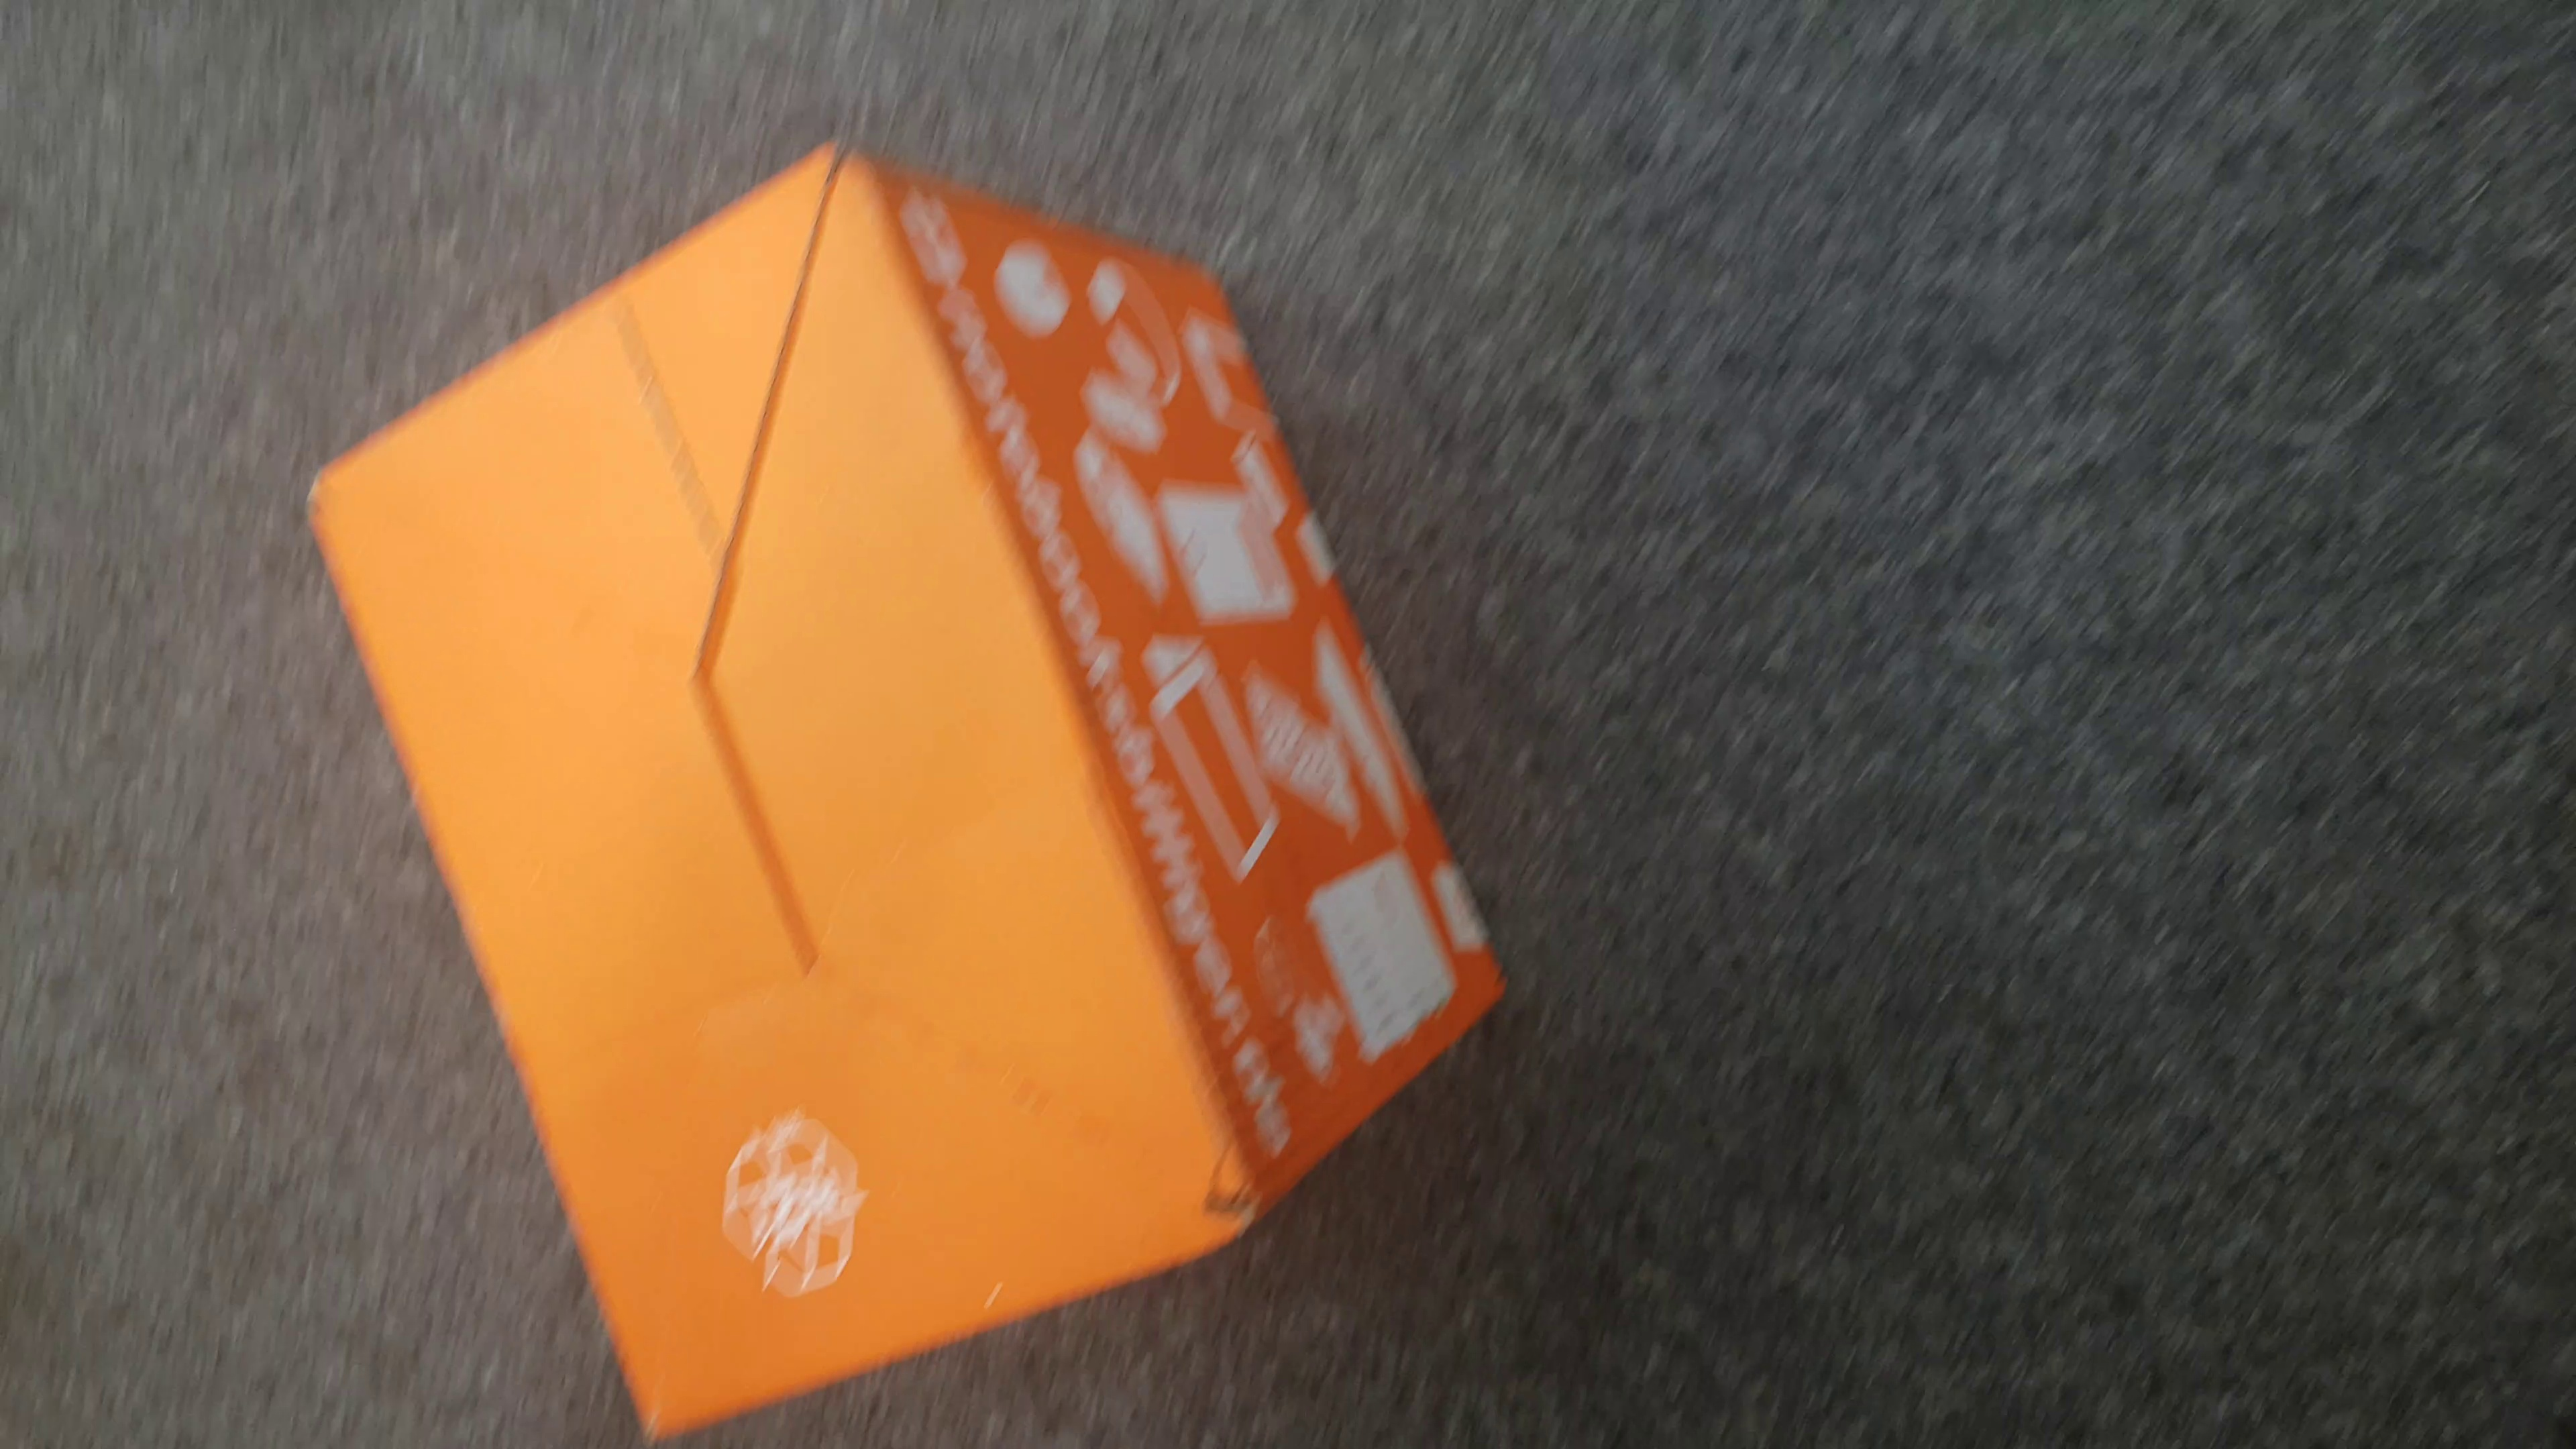push: (303, 145, 1500, 1449)
